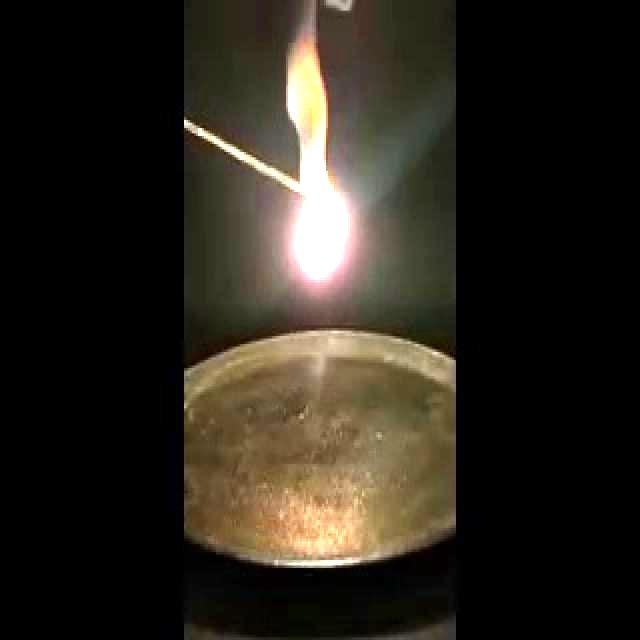Fire: (281, 32, 341, 282)
